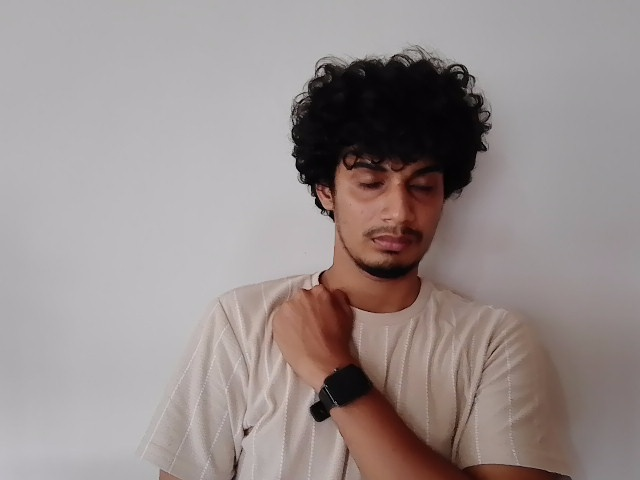sorry: (140, 281, 387, 449)
